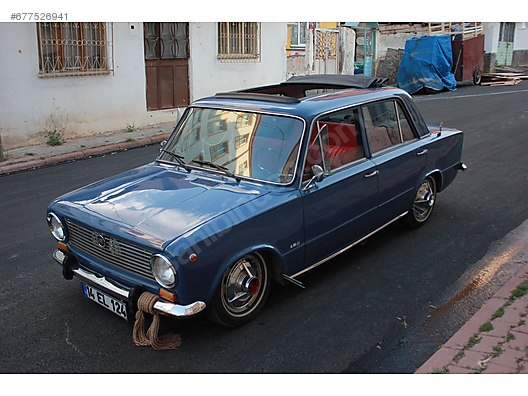murat: (40, 71, 462, 335)
